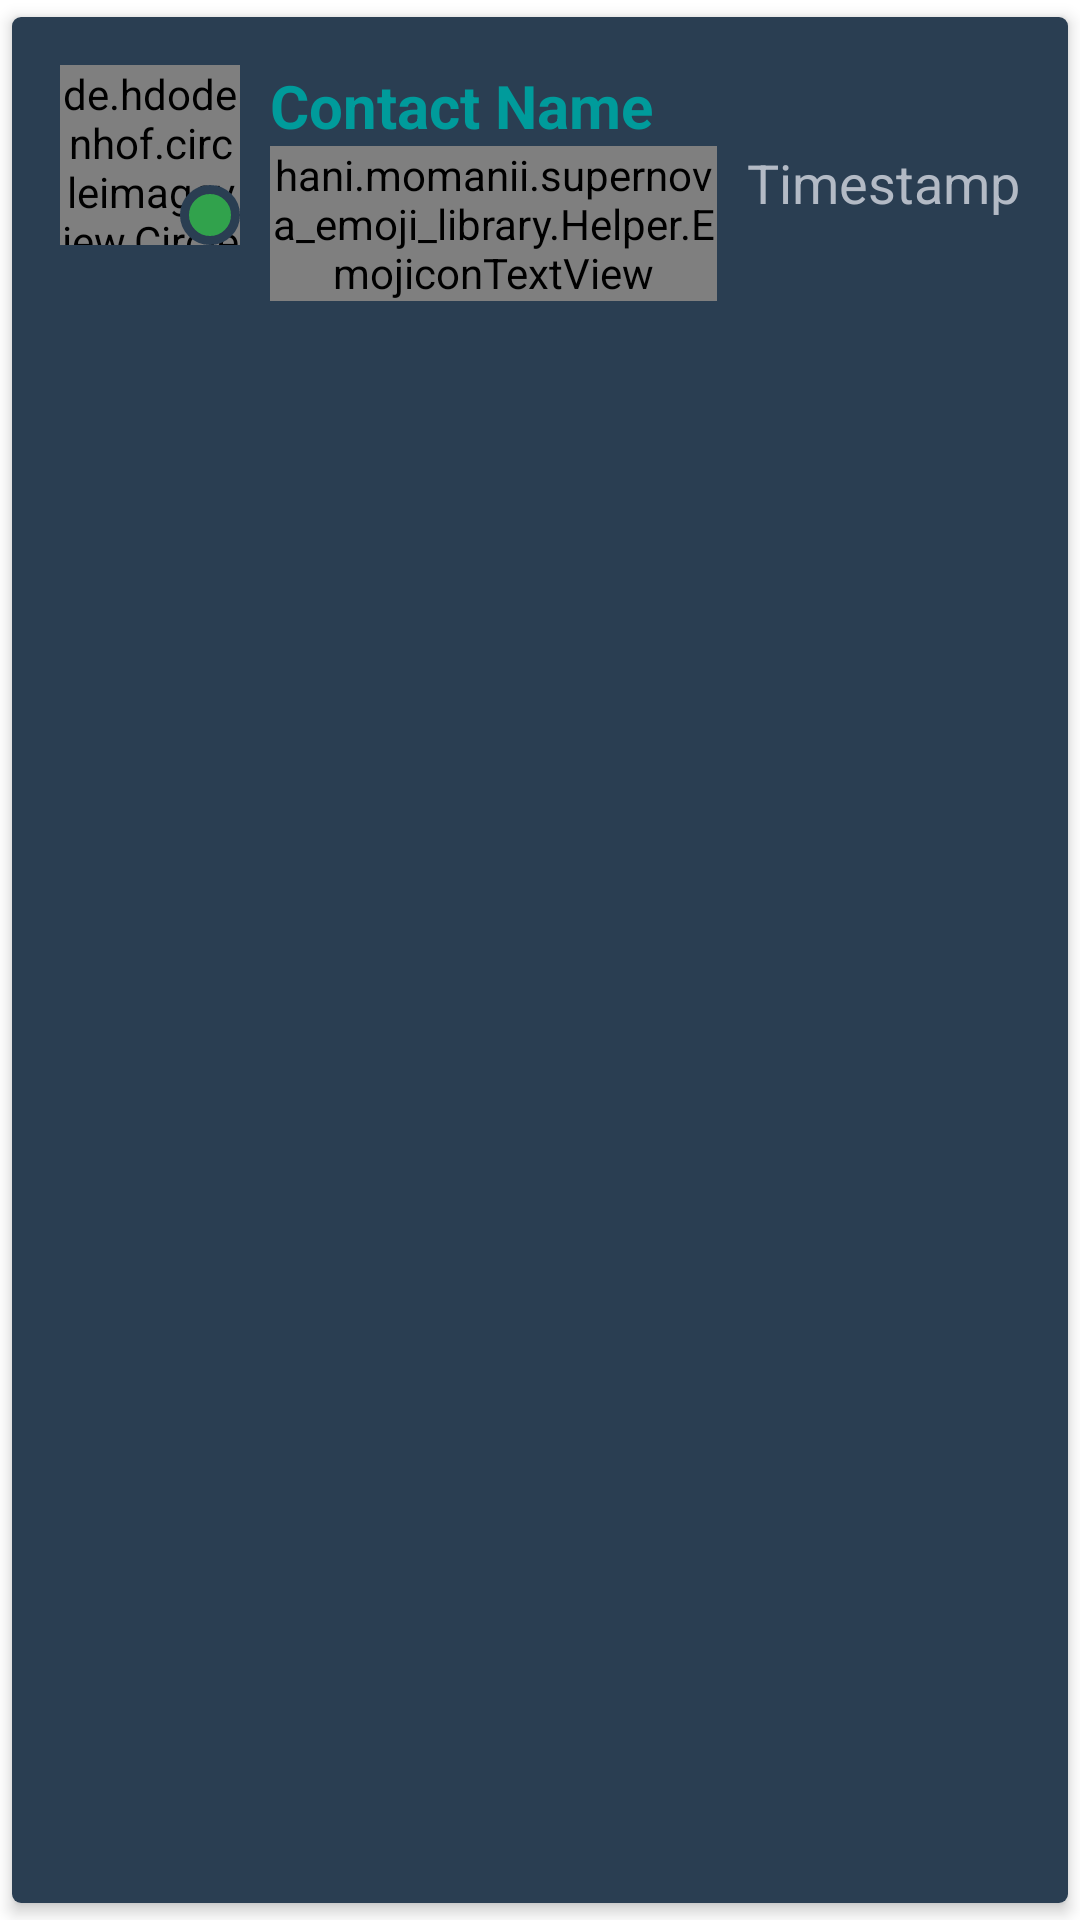

Icon click points for this 1080w x 1920h phone screenshot, format (x,y):
contact online: (210,215)
